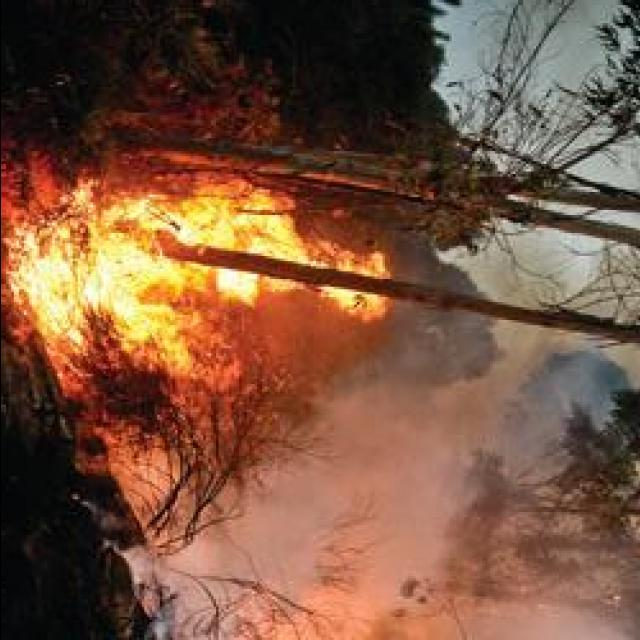fire: (18, 196, 182, 354), (162, 179, 304, 259)
smoke: (320, 361, 466, 534), (410, 330, 582, 444), (206, 480, 320, 574), (435, 592, 640, 640), (124, 544, 186, 592)
